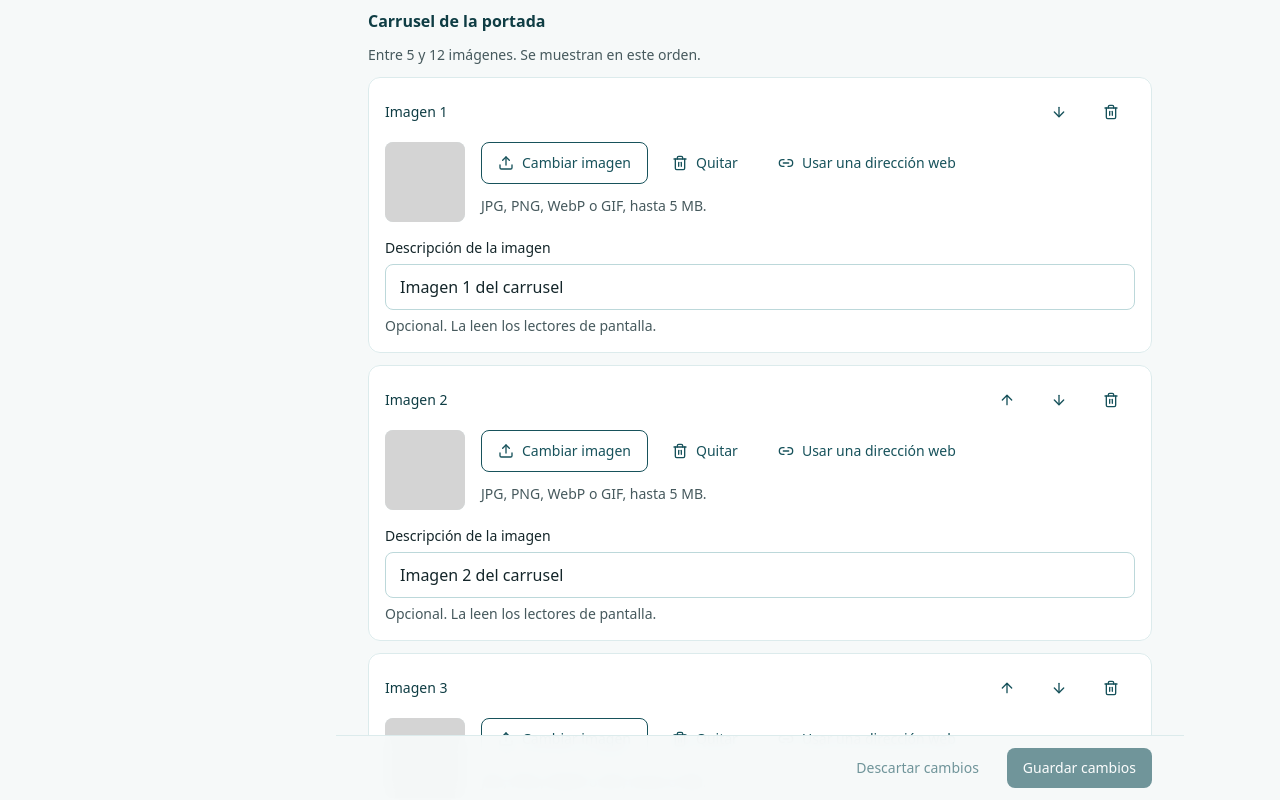
Editor de contenido › inicio: se puede reordenar el carrusel
(page scrolled)
Expected: the element "Imagen 2" is shown, [368,365,1152,641]
Click the button named "Subir: Imagen 2" at (1007, 400), box [983,382,1031,418]
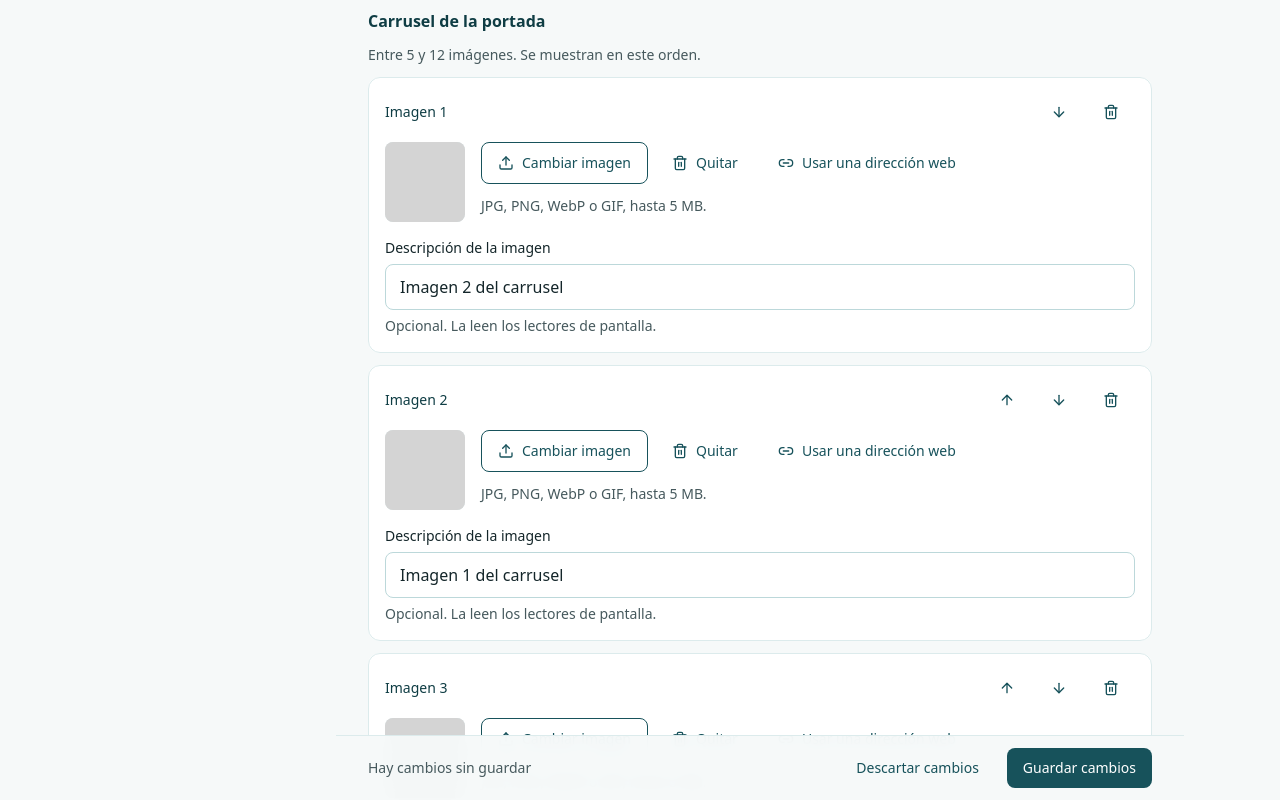
Click the button "Guardar cambios" at (1079, 768), box [1007,748,1152,788]
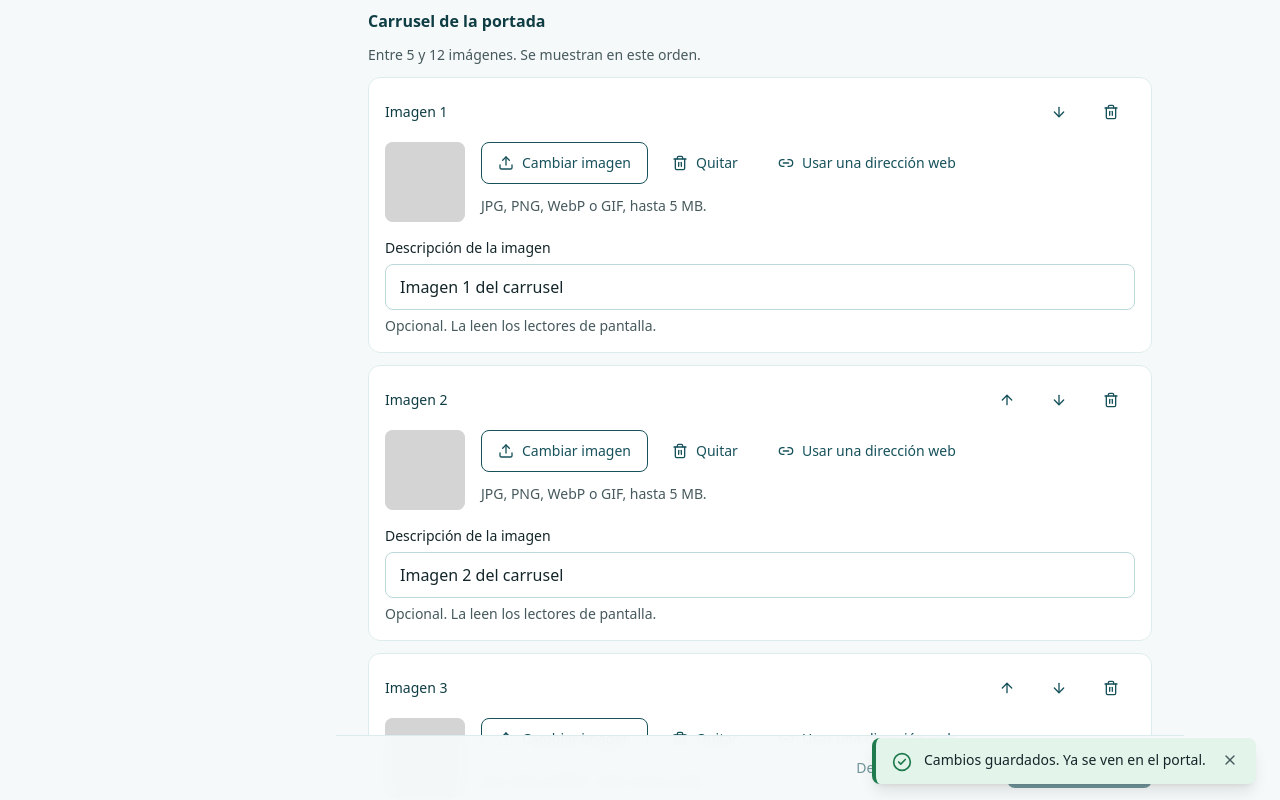
Now the text "Cambios guardados. Ya se ven en el portal." is shown, box [924,750,1208,770]
